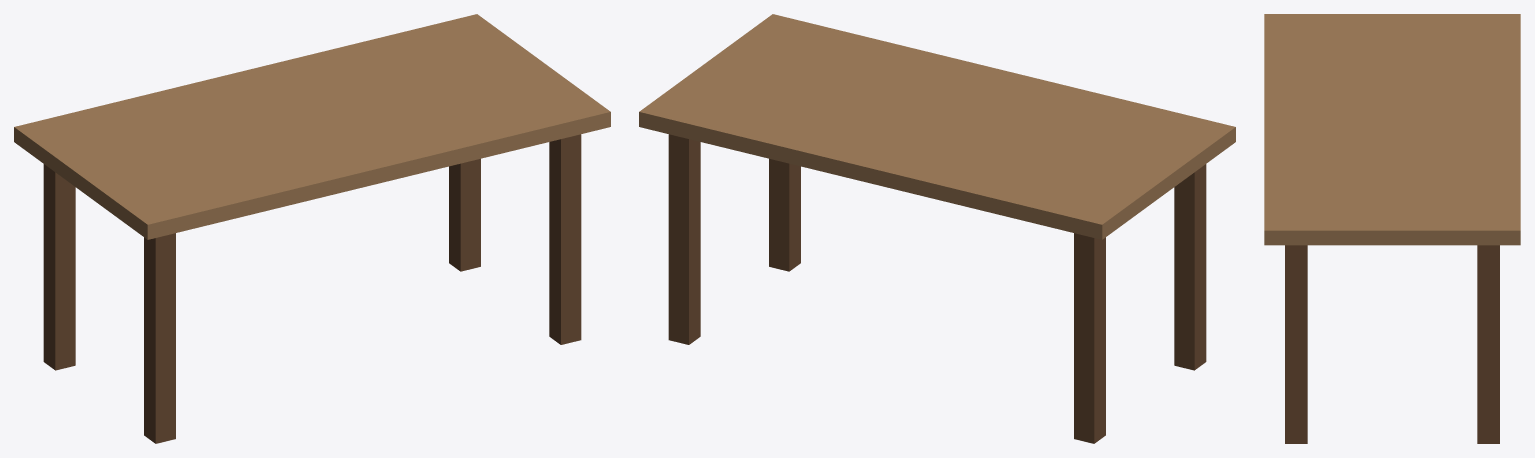
Rendered from table.glb.
The picture shows the model from 3 angles, left to right: view 1: azimuth 30°, elevation 25°; view 2: azimuth 150°, elevation 25°; view 3: azimuth 270°, elevation 25°; orthographic projection. The views are drawn at different scales.
Visible parts, largest first — view 1: table; view 2: table; view 3: table.
Part boxes in pixels (<box>): table: <box>14,14,610,443</box>; table: <box>639,14,1235,443</box>; table: <box>1264,14,1520,443</box>.
Size of the model in its own units: 1.6 by 0.765 by 0.8.
